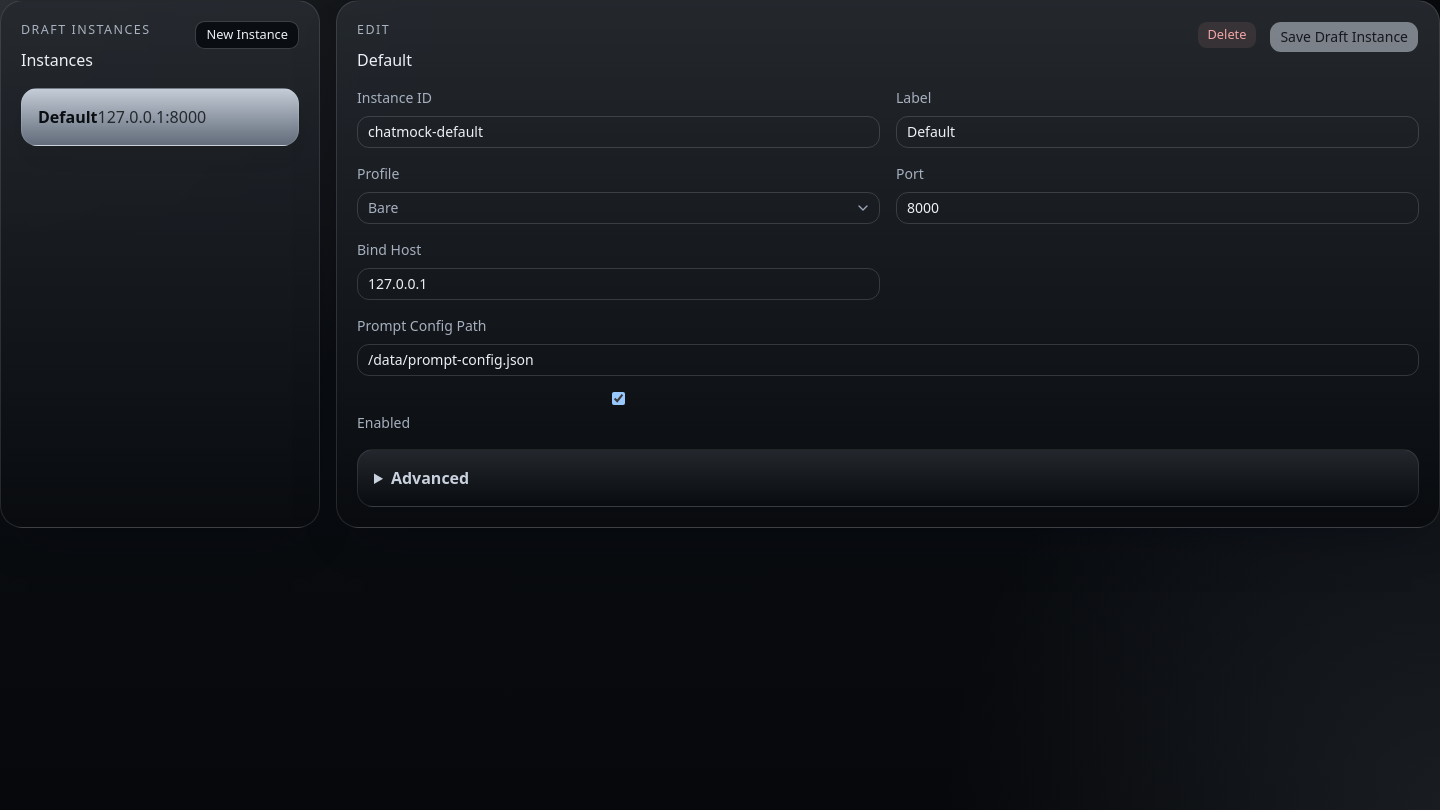
Test: admin config editor forms › blocks creating an instance when the port is out of range
The image size is (1440, 810).
Click the button "New Instance".
click(247, 35)  # box [196,21,299,49]
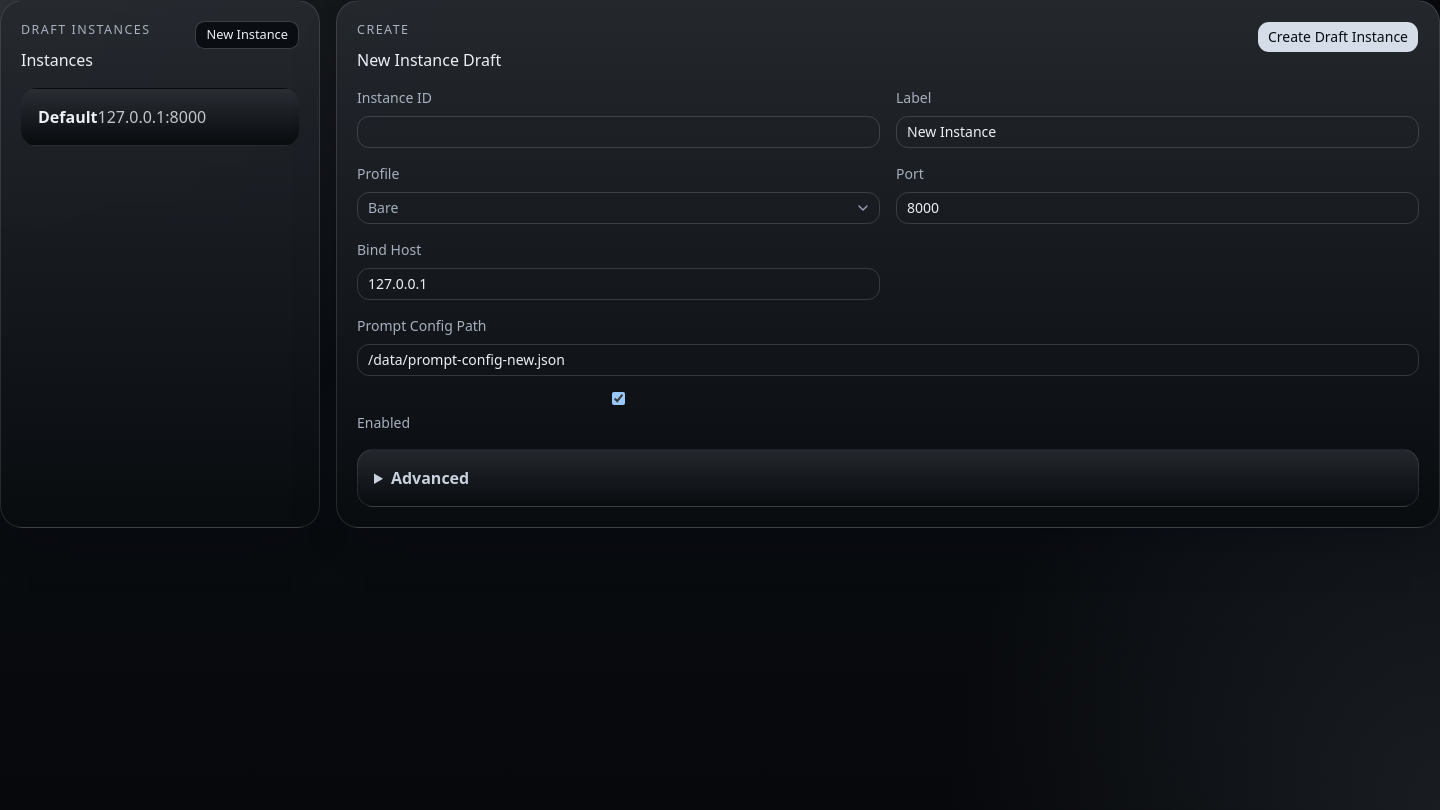
Type "chatmock-new" into the field labelled "Instance ID".
click(618, 132); type("chatmock-new")  # box [357,116,880,148]
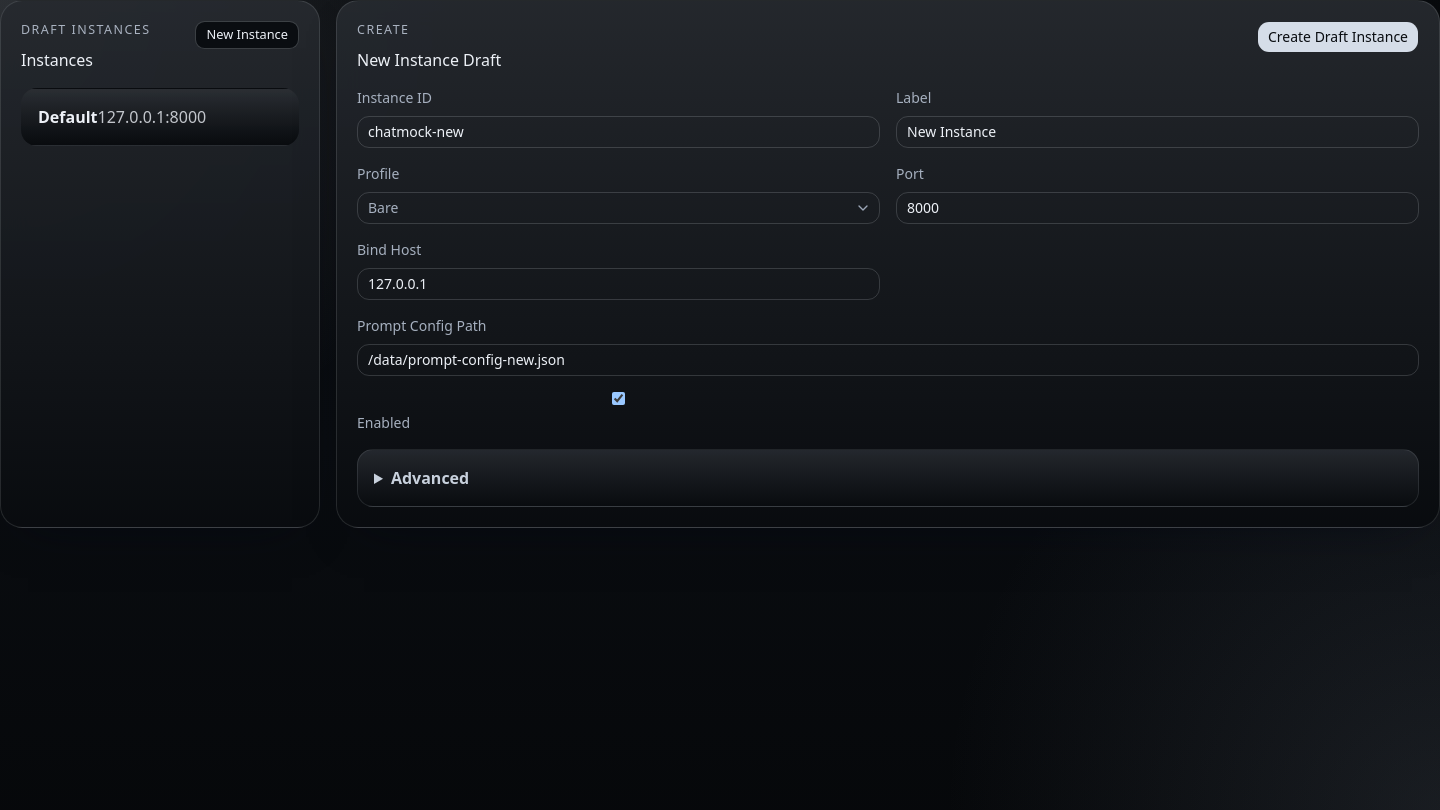
Replace the text in the number field labelled "Port" with "70000" at [1158, 208], box [896,192,1419,224]
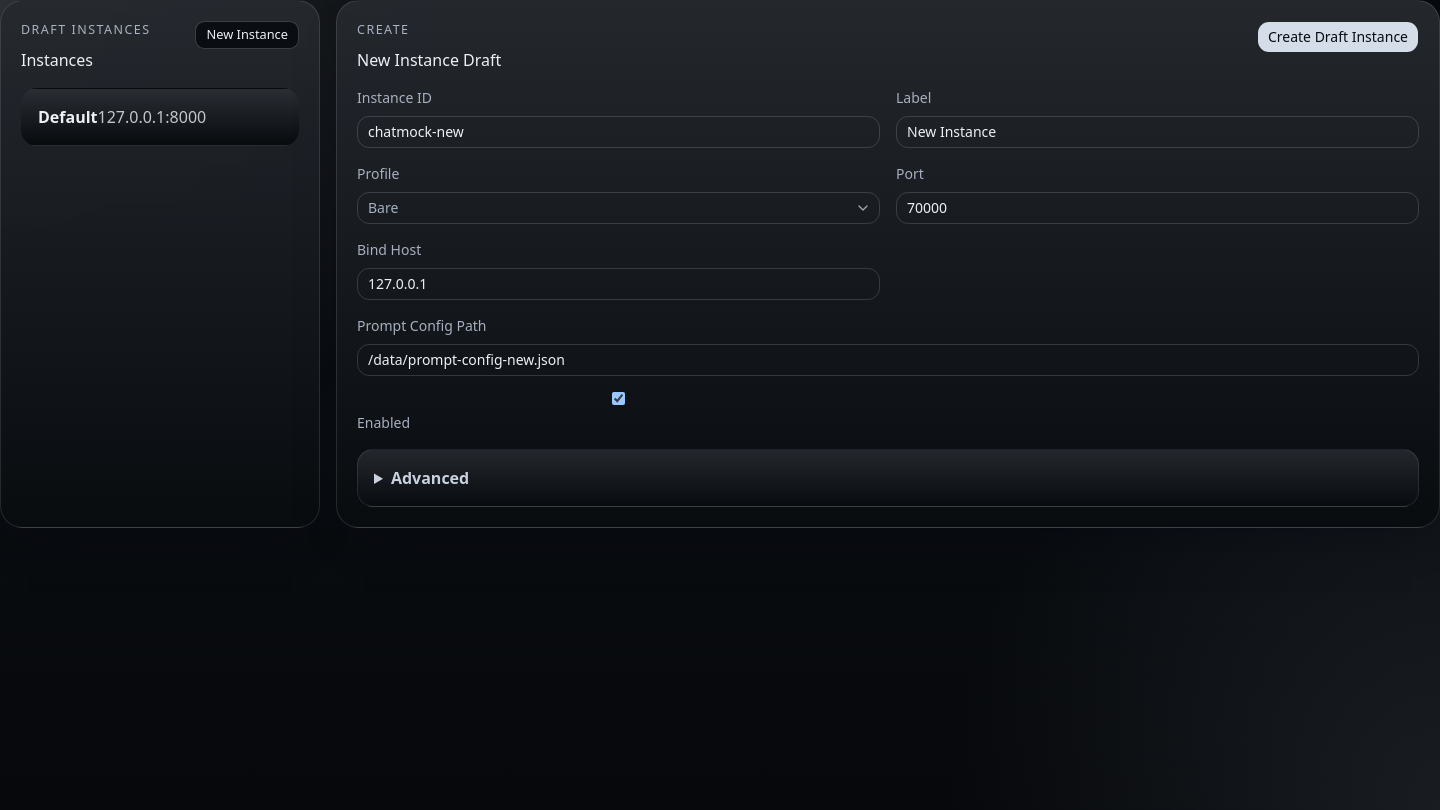
Click the button "Create Draft Instance".
click(1338, 37)  # box [1257,21,1419,53]
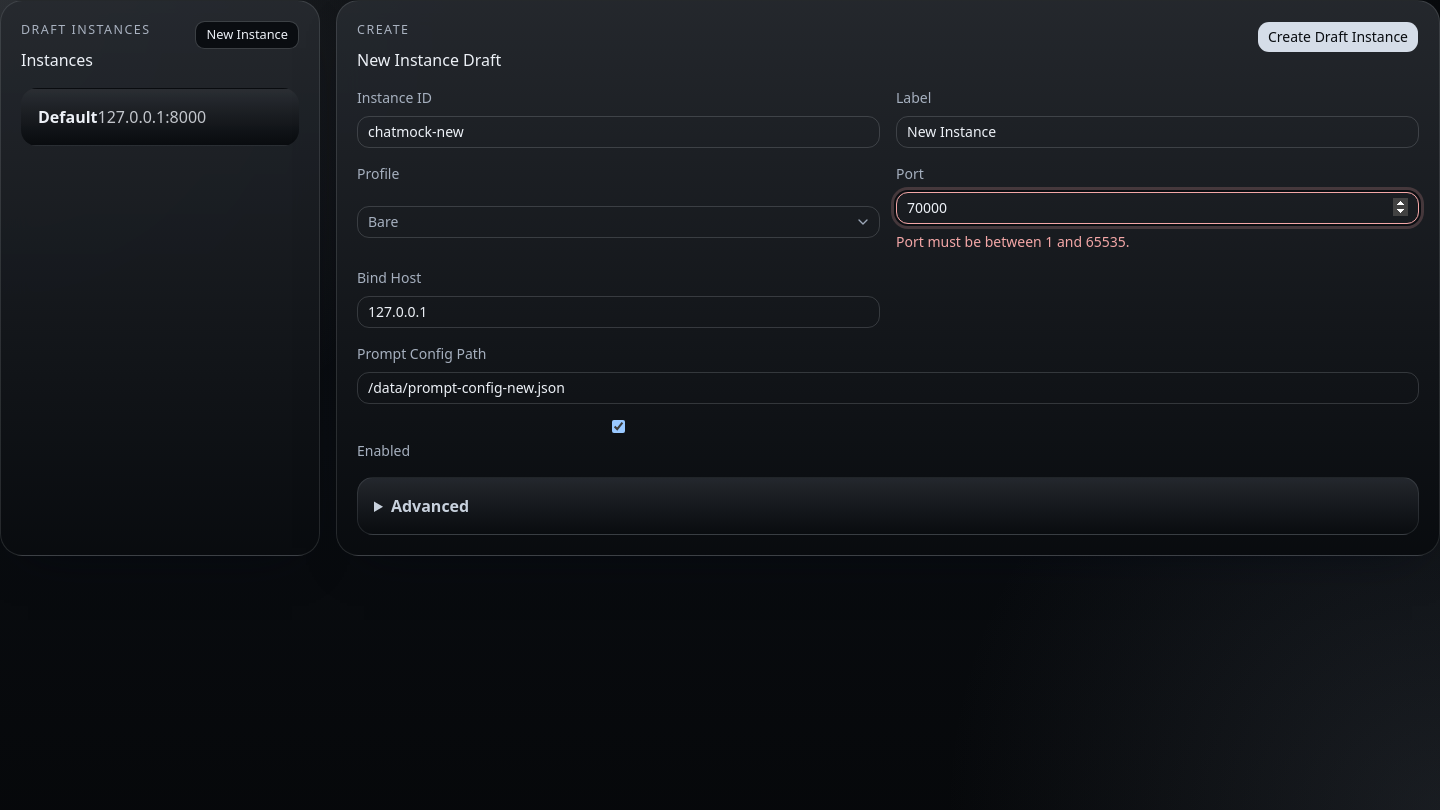
Check: the text "Port must be between 1 and 65535." is shown, box [896,232,1130,251]
